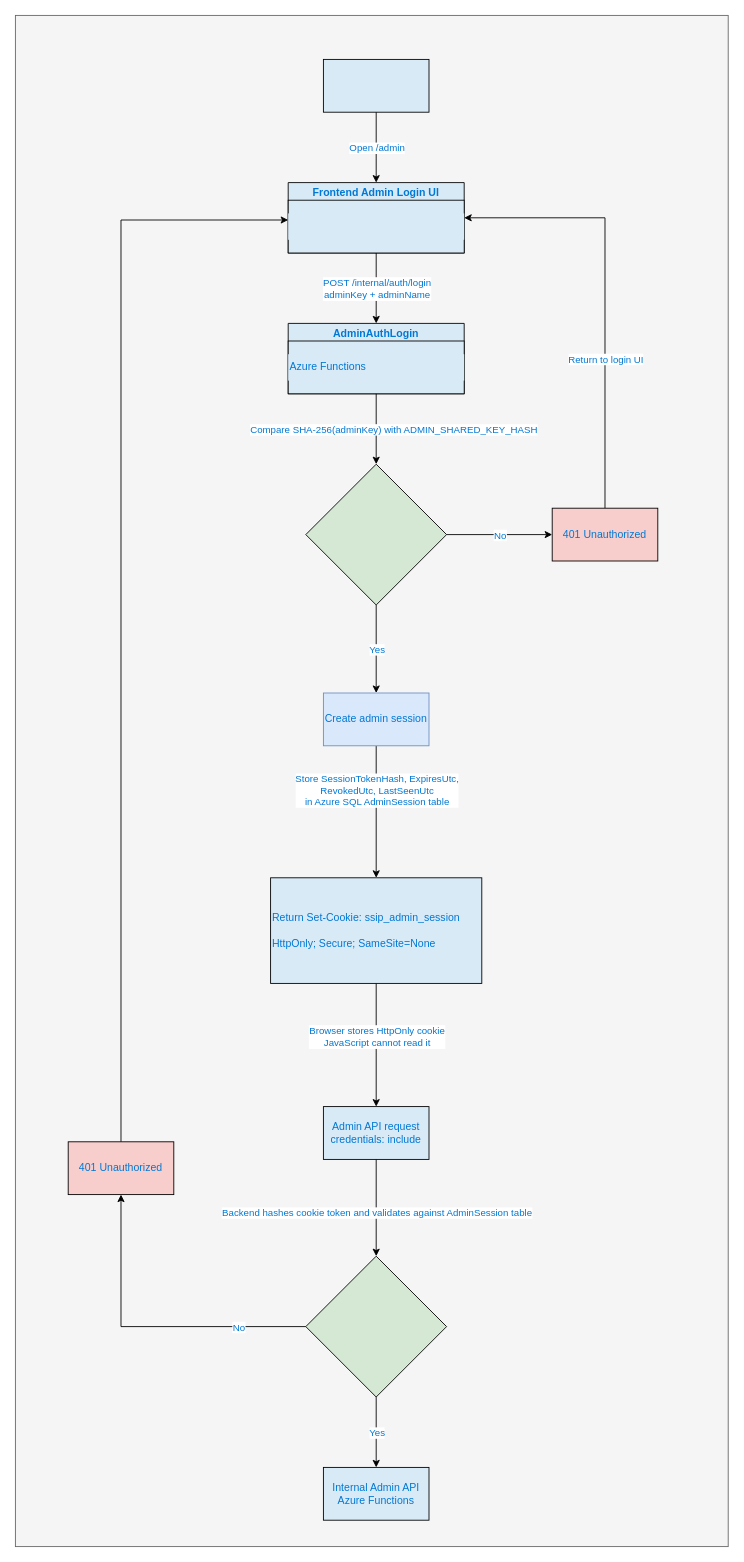
The diagram is 744 pixels wide and 1562 high, and some of its shapes have lost their labels. The shapes that lost their labels are listed below. From the top down, each one's box as (x1, y1, x2, y2) in pixels, then its label:
(323, 59, 429, 112): Administrator opens admin portal
(288, 213, 464, 239): Azure App Service
(305, 463, 447, 605): admin key valid?
(305, 1255, 447, 1397): Session valid?
